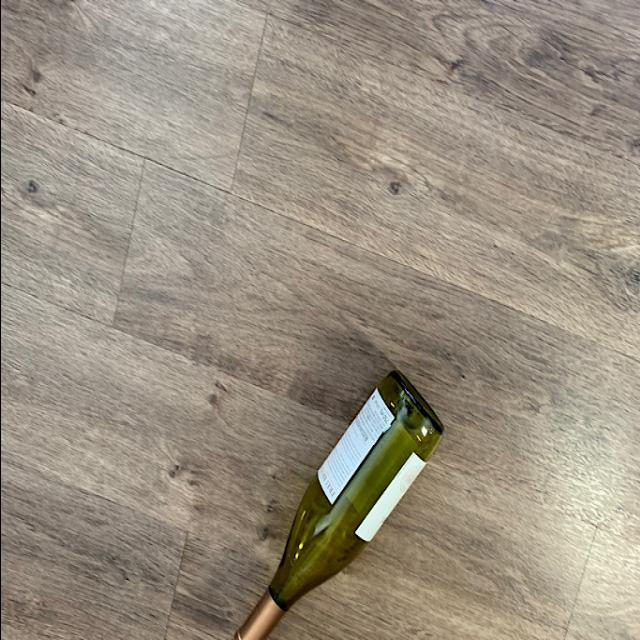litter: (234, 368, 446, 638)
